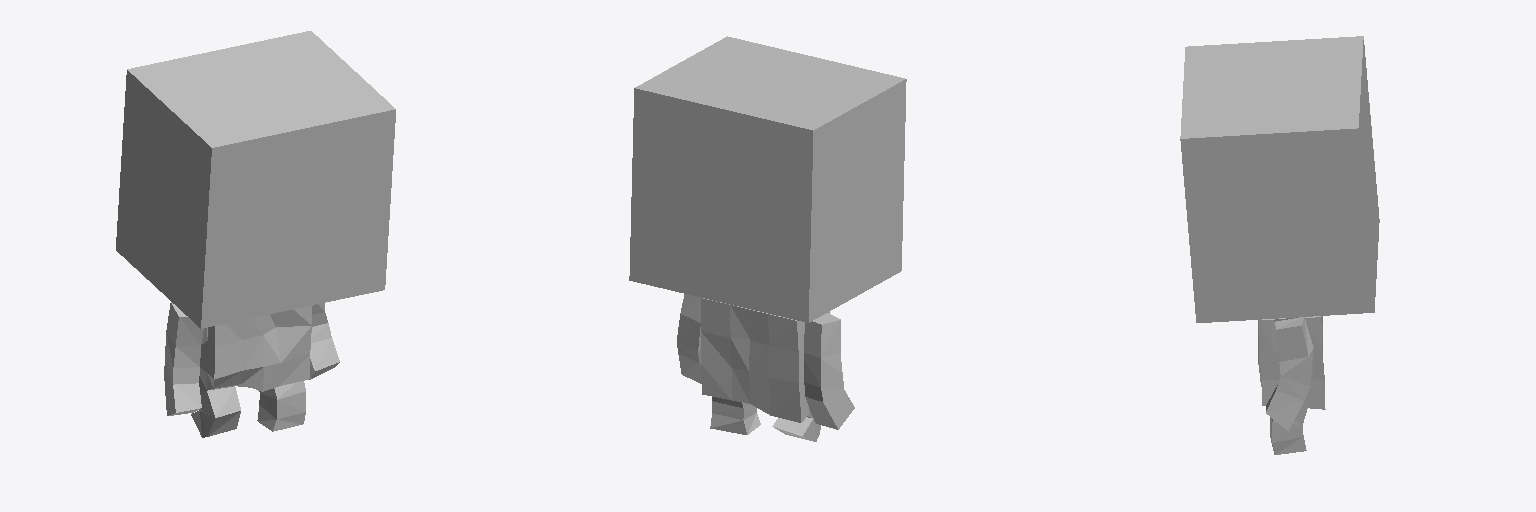
The model's file is boxman-animation-hodba_000009.obj.
3 views of the same model, side by side, from view 1: azimuth 30°, elevation 25°; view 2: azimuth 150°, elevation 25°; view 3: azimuth 270°, elevation 25° (orthographic).
Visible parts, largest first — view 1: Cube; view 2: Cube; view 3: Cube.
Part boxes in pixels (x1,y1,x2,y2): Cube: (116, 31, 395, 437); Cube: (629, 36, 906, 441); Cube: (1180, 36, 1379, 454).
Size of the model in its own units: 2.12 by 3.8 by 1.94.